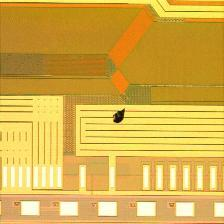PARTICLE: (111, 106, 132, 127)
